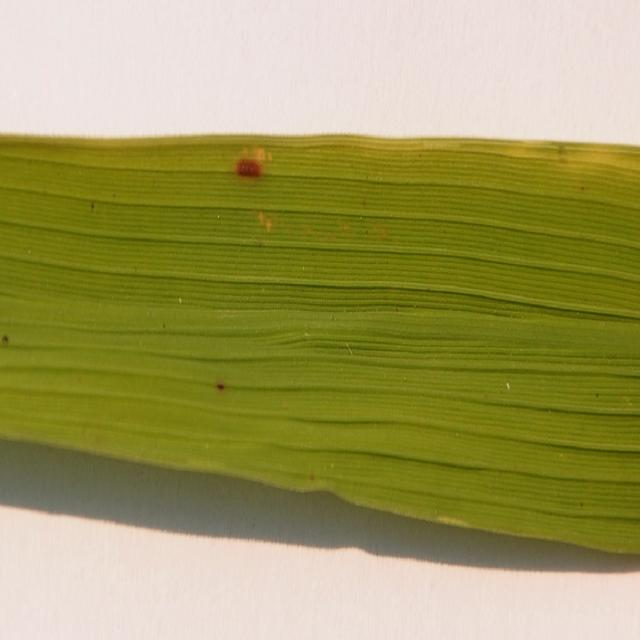Unhealthy: (237, 160, 260, 177), (216, 383, 225, 393)
